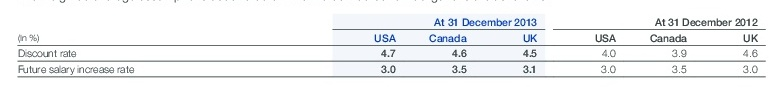table: (0, 0, 782, 93)
